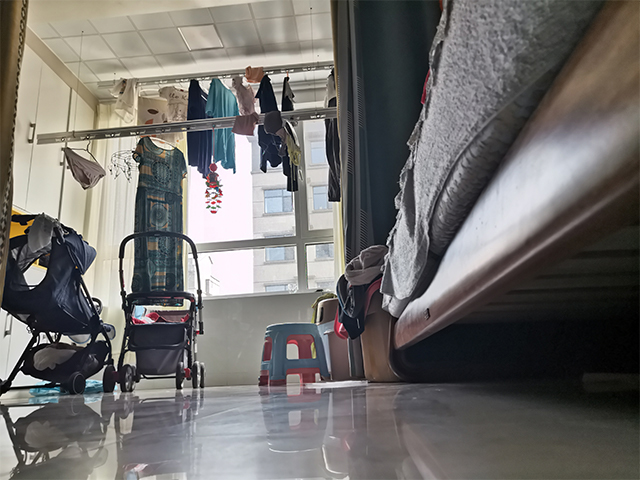sofa: (358, 1, 640, 385)
stool: (255, 322, 332, 388)
